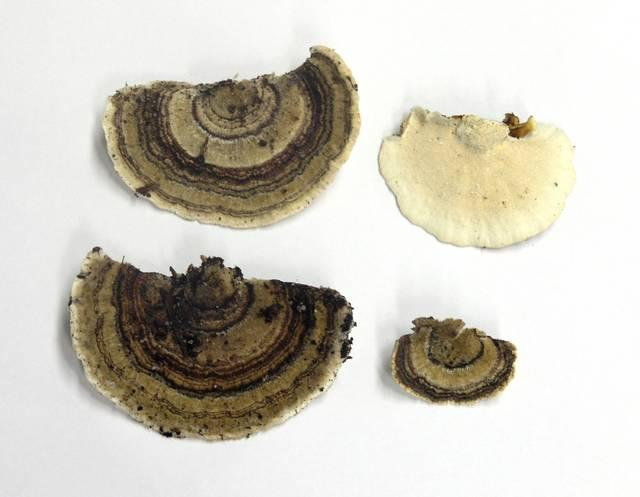poisonous_mushroom: (66, 245, 356, 442), (100, 43, 361, 229), (376, 103, 576, 249), (389, 314, 517, 404)
